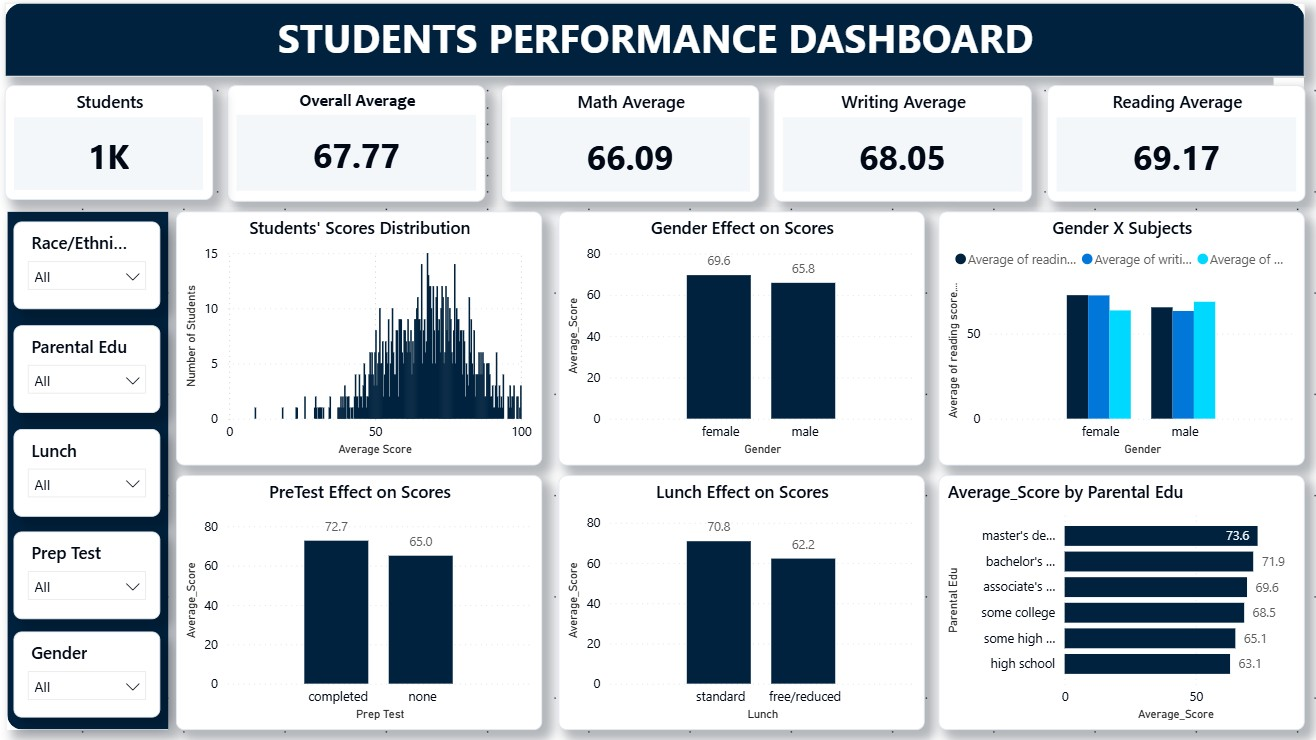

Layout of this report page (visuals, bound fields, positions):
{"tool":"powerbi","page":{"name":"Executive Overview","canvas":[1280,720],"ordinal":0},"visuals":[{"type":"shape","box":[25.2,210.9,153.1,491.2],"z":0},{"type":"shape","box":[22.5,13,1232.9,69.9],"z":3000},{"type":"textbox","box":[169.4,15.4,940.3,81.7],"z":4000},{"type":"cardVisual","title":"Math Average","fields":{"Data":["Avg(StudentsPerformance Output.math score)"]},"box":[492.7,91.4,245.2,110.1],"z":5000},{"type":"cardVisual","title":"Writing Average","fields":{"Data":["Avg(StudentsPerformance Output.writing score)"]},"box":[750.9,91.4,245.2,110.1],"z":6000},{"type":"cardVisual","title":"Overall Average","fields":{"Data":["StudentsPerformance Output.Average_Score"]},"box":[233.3,91.4,245.2,110.1],"z":7000},{"type":"cardVisual","title":"Students","fields":{"Data":["CountNonNull(StudentsPerformance Output.Index)"]},"box":[22.5,91.4,197.8,109],"z":8000},{"type":"slicer","fields":{"Values":["StudentsPerformance Output.race/ethnicity"]},"box":[30.6,220.4,139.4,83.1],"z":11000},{"type":"cardVisual","title":"Reading Average","fields":{"Data":["Avg(StudentsPerformance Output.reading score)"]},"box":[1011.4,91.4,245.2,110.1],"z":12000},{"type":"slicer","fields":{"Values":["StudentsPerformance Output.parental level of education"]},"box":[30.6,319,139.4,83.1],"z":13000},{"type":"slicer","fields":{"Values":["StudentsPerformance Output.lunch"]},"box":[30.6,417.6,139.4,83.1],"z":14000},{"type":"slicer","fields":{"Values":["StudentsPerformance Output.test preparation course"]},"box":[30.6,514.8,139.4,83.1],"z":15000},{"type":"slicer","fields":{"Values":["StudentsPerformance Output.Gender"]},"box":[30.6,609.1,139.4,81.7],"z":16000},{"type":"columnChart","title":"Students'' Scores Distribution","fields":{"Category":["StudentsPerformance Output.average score"],"Y":["CountNonNull(StudentsPerformance Output.average score (bins))"]},"box":[184.8,210.8,347,240.4],"z":17000},{"type":"columnChart","title":"Gender Effect on Scores","fields":{"Category":["StudentsPerformance Output.gender"],"Y":["StudentsPerformance Output.Average_Score"]},"box":[547.4,210.8,347,240.4],"z":18500},{"type":"clusteredColumnChart","title":"Gender X Subjects","fields":{"Y":["Avg(StudentsPerformance Output.reading score)","Avg(StudentsPerformance Output.writing score)","Avg(StudentsPerformance Output.math score)"],"Category":["StudentsPerformance Output.Gender"]},"box":[908.4,210.8,347,240.4],"z":19000},{"type":"clusteredColumnChart","title":"PreTest Effect on Scores","fields":{"Y":["StudentsPerformance Output.Average_Score"],"Category":["StudentsPerformance Output.test preparation course"]},"box":[184.8,460.7,347,241.6],"z":19500},{"type":"clusteredColumnChart","title":"Lunch Effect on Scores","fields":{"Y":["StudentsPerformance Output.Average_Score"],"Category":["StudentsPerformance Output.lunch"]},"box":[547.2,460.7,347,241.6],"z":20000},{"type":"clusteredBarChart","fields":{"Category":["StudentsPerformance Output.parental level of education"],"Y":["StudentsPerformance Output.Average_Score"]},"box":[908.4,460.7,347,241.6],"z":20500}]}

Visuals, with their boxes in screenshot pixels (x1, y1, x2, y2), scaled from the page's 1280x720 canvas onto the 1316x740 screenshot:
shape: left=26, top=217, right=183, bottom=722
shape: left=23, top=13, right=1291, bottom=85
textbox: left=174, top=16, right=1141, bottom=100
"Math Average" cardVisual: left=507, top=94, right=759, bottom=207
"Writing Average" cardVisual: left=772, top=94, right=1024, bottom=207
"Overall Average" cardVisual: left=240, top=94, right=492, bottom=207
"Students" cardVisual: left=23, top=94, right=226, bottom=206
slicer - StudentsPerformance Output.race/ethnicity: left=31, top=227, right=175, bottom=312
"Reading Average" cardVisual: left=1040, top=94, right=1292, bottom=207
slicer - StudentsPerformance Output.parental level of education: left=31, top=328, right=175, bottom=413
slicer - StudentsPerformance Output.lunch: left=31, top=429, right=175, bottom=515
slicer - StudentsPerformance Output.test preparation course: left=31, top=529, right=175, bottom=615
slicer - StudentsPerformance Output.Gender: left=31, top=626, right=175, bottom=710
"Students'' Scores Distribution" columnChart: left=190, top=217, right=547, bottom=464
"Gender Effect on Scores" columnChart: left=563, top=217, right=920, bottom=464
"Gender X Subjects" clusteredColumnChart: left=934, top=217, right=1291, bottom=464
"PreTest Effect on Scores" clusteredColumnChart: left=190, top=473, right=547, bottom=722
"Lunch Effect on Scores" clusteredColumnChart: left=563, top=473, right=919, bottom=722
clusteredBarChart - StudentsPerformance Output.parental level of education x StudentsPerformance Output.Average_Score: left=934, top=473, right=1291, bottom=722
